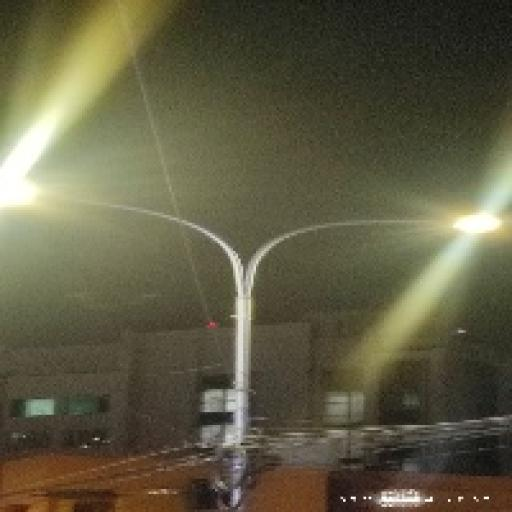Working: (440, 205, 512, 243), (0, 166, 52, 217)
